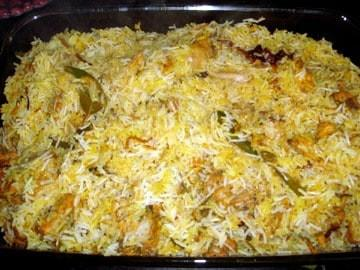Biryani: (1, 18, 360, 257)
